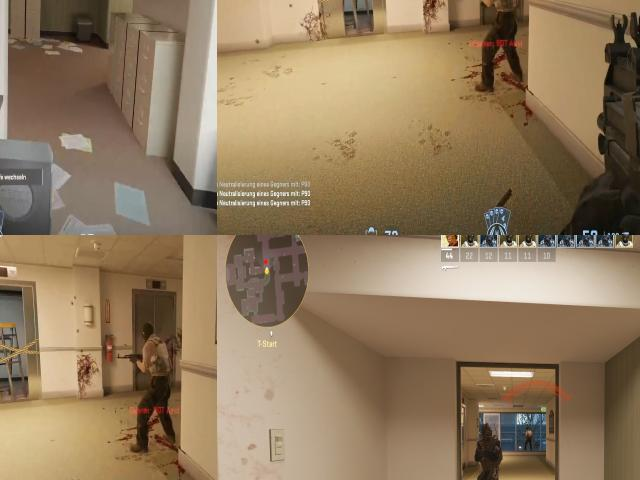CT: (472, 424, 502, 480)
CT-Head: (479, 424, 494, 443)
T: (128, 320, 175, 406), (472, 0, 523, 17), (523, 426, 532, 451)
T-Head: (136, 317, 160, 354), (526, 427, 530, 432)
